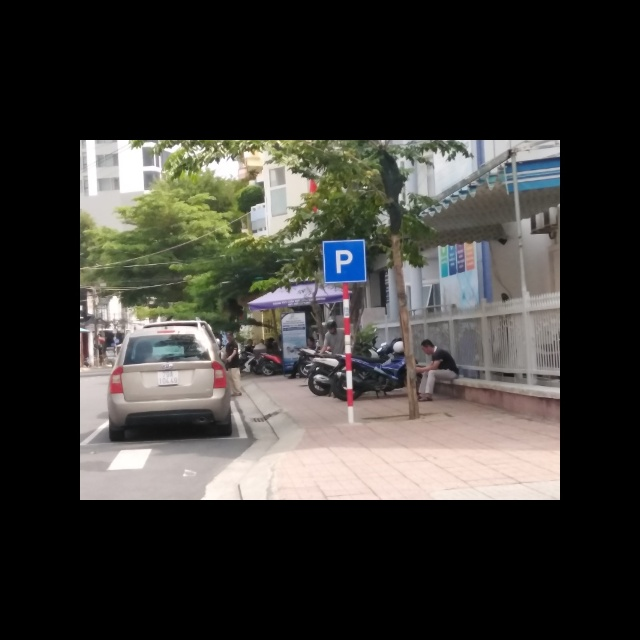Nơi đỗ xe: (321, 239, 367, 284)
